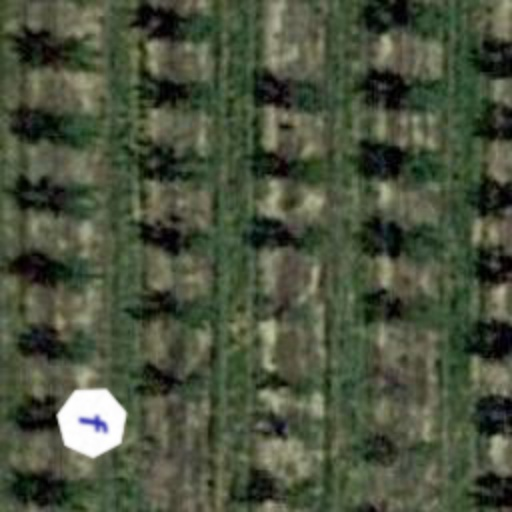heptagon: (54, 384, 130, 460)
